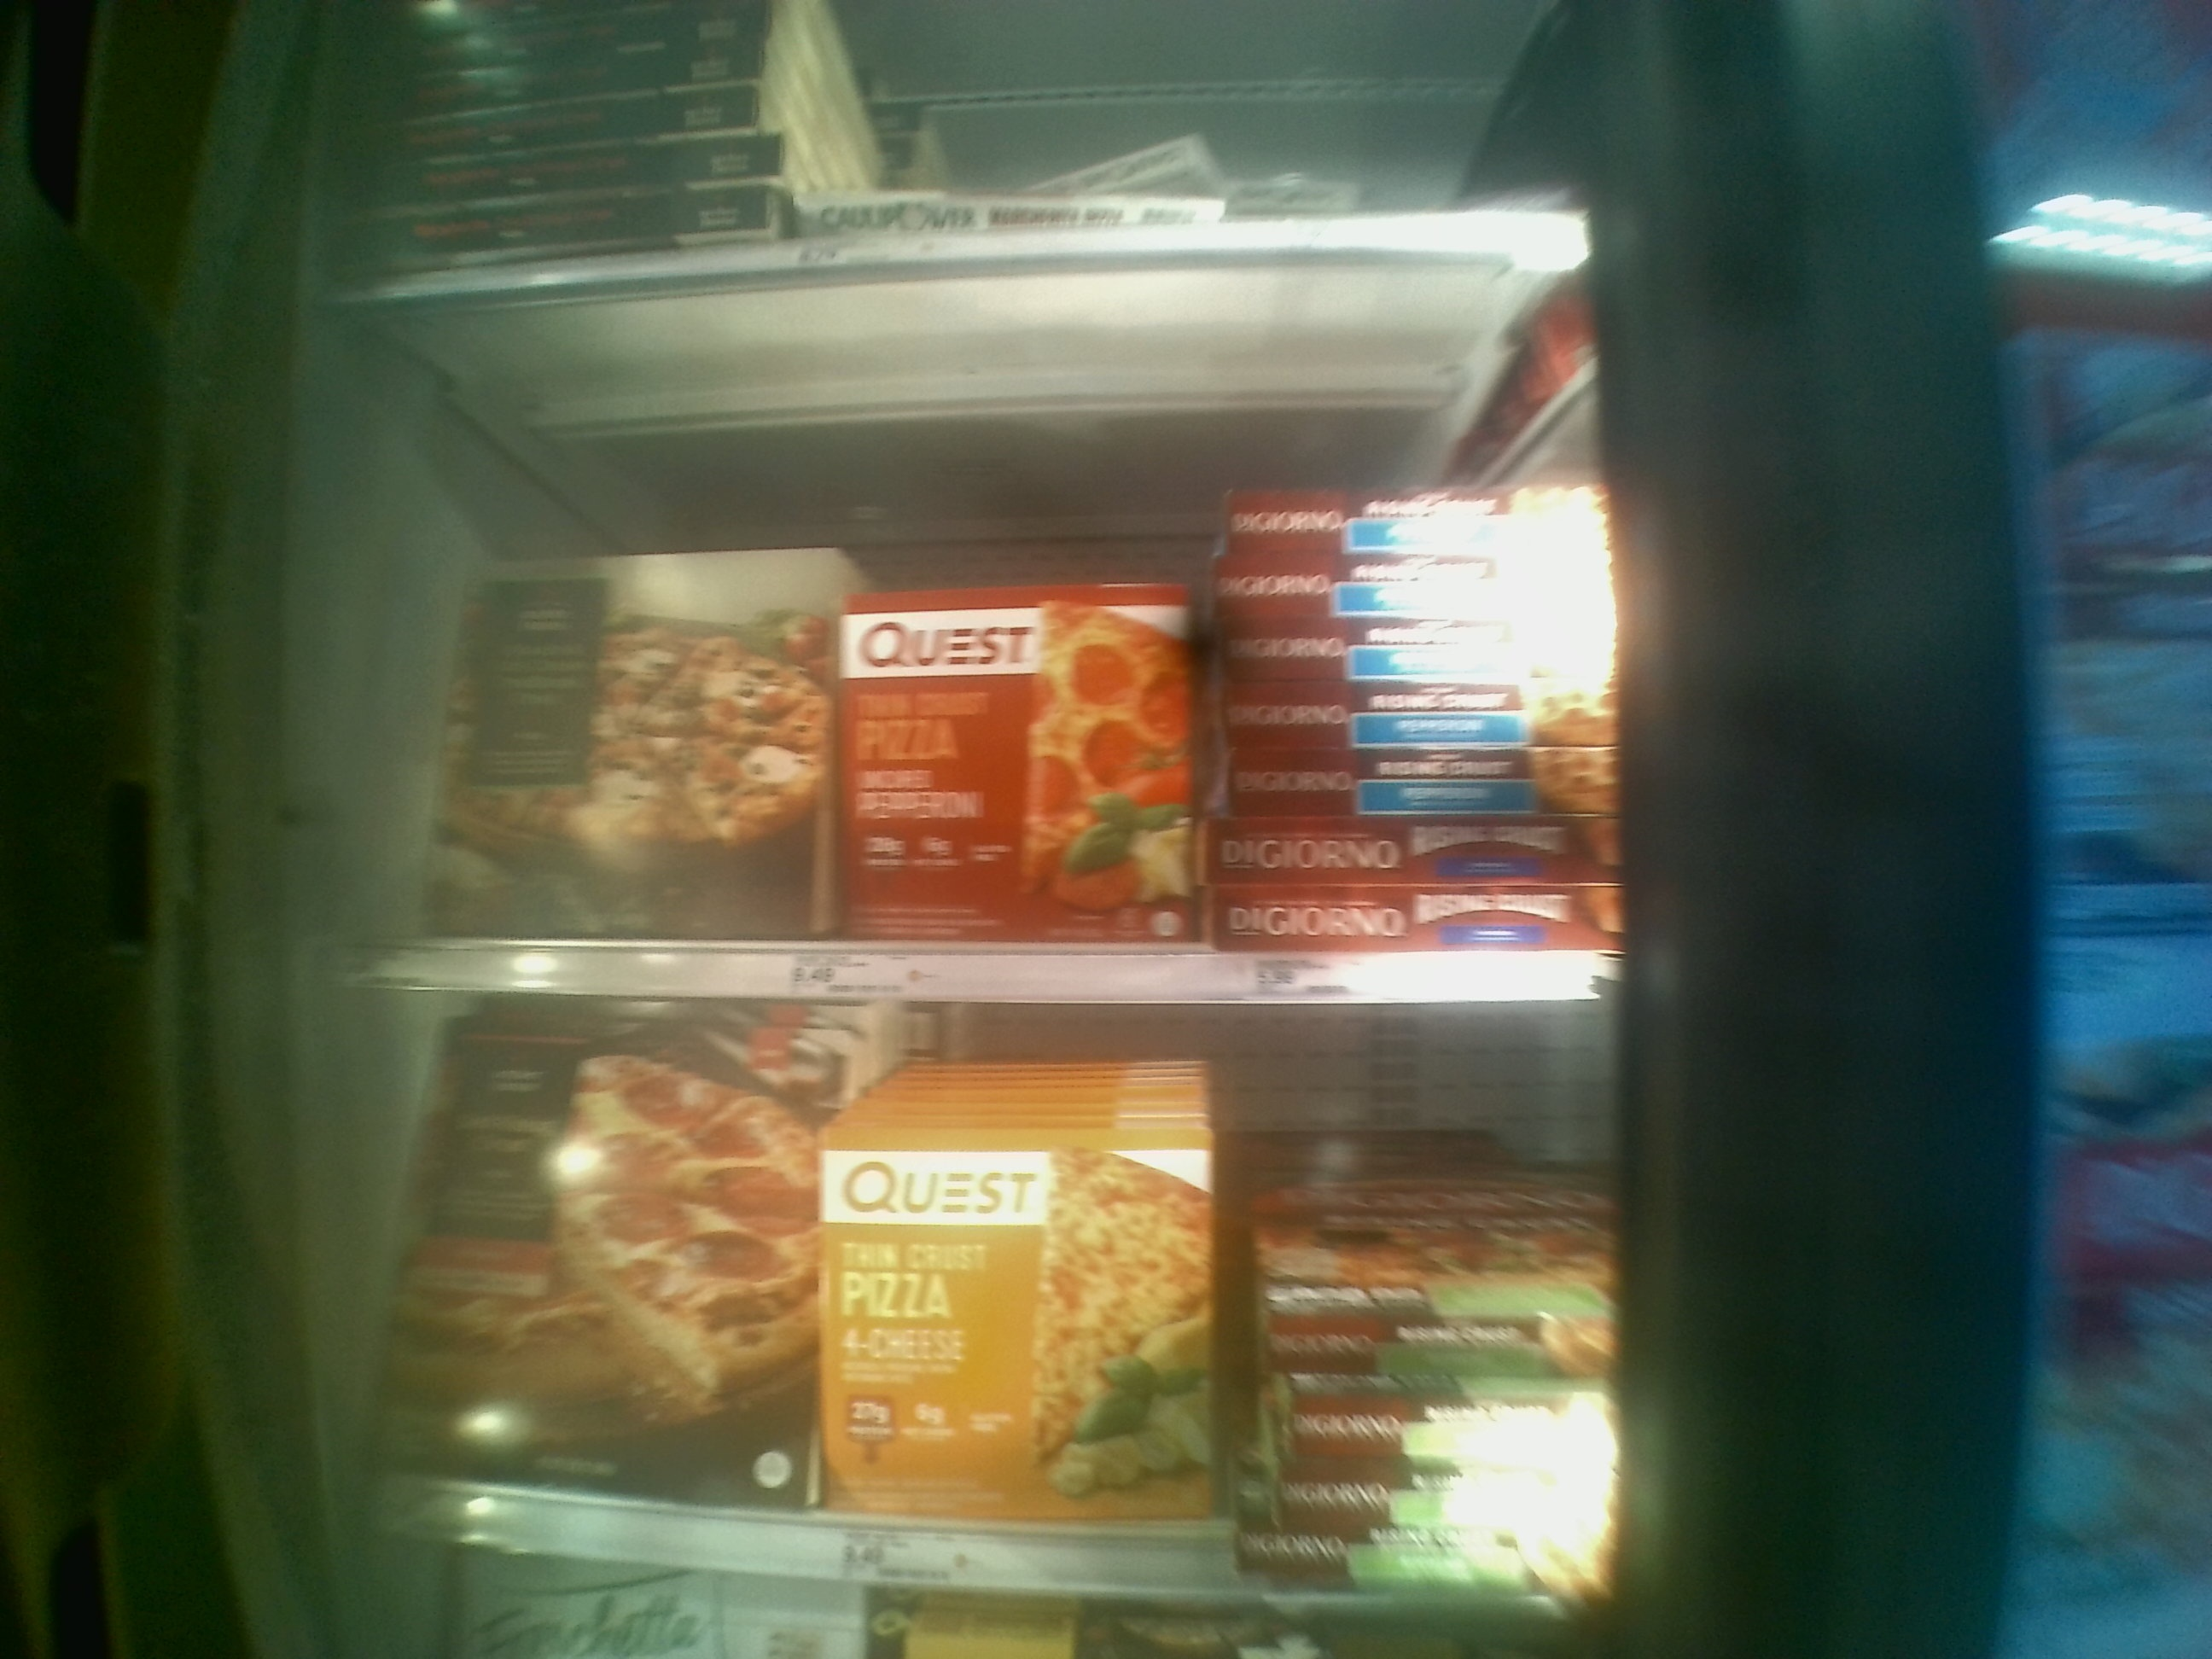shelf: (331, 300, 1616, 993), (340, 995, 1622, 1607)
